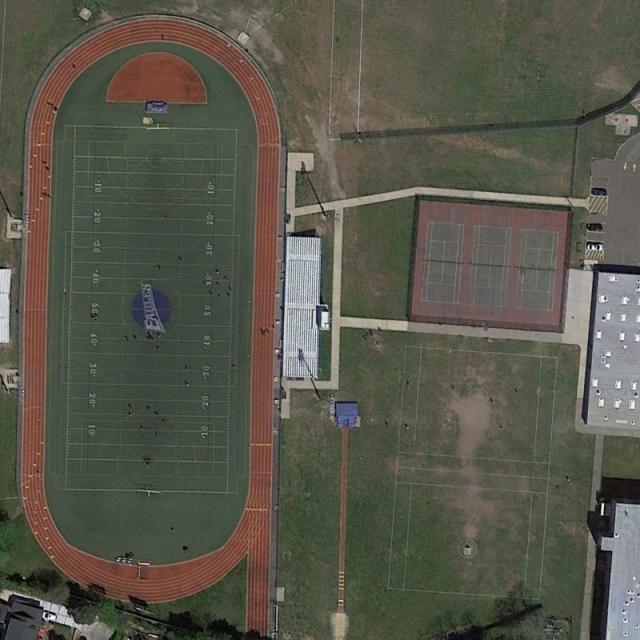vehicle: (42, 611, 57, 622), (591, 187, 607, 195), (587, 224, 603, 231), (587, 244, 603, 250)
